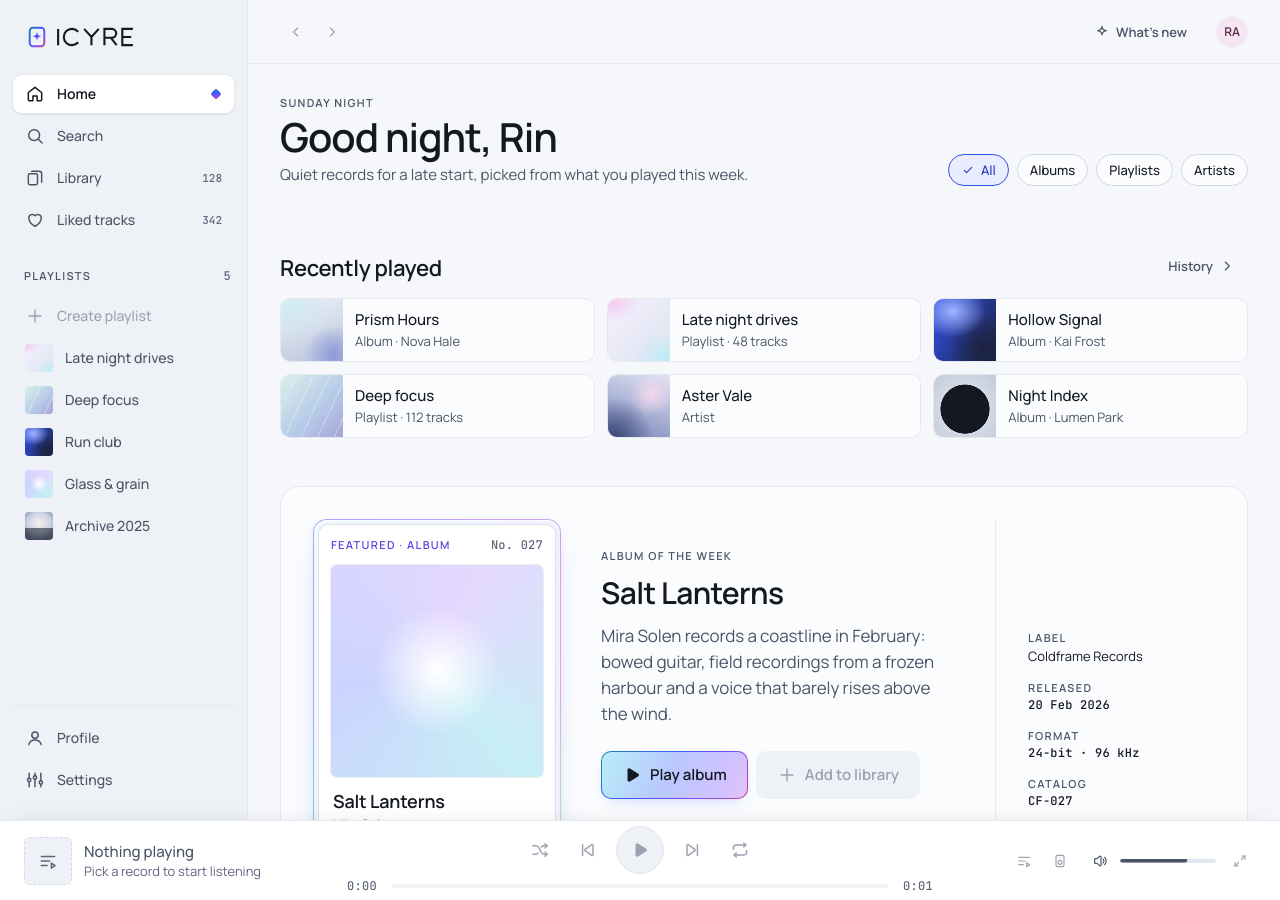
Test: Home screen › filters shelves with the chips
Click the button "Artists" at point(1214, 170), box [1181,154,1248,186]
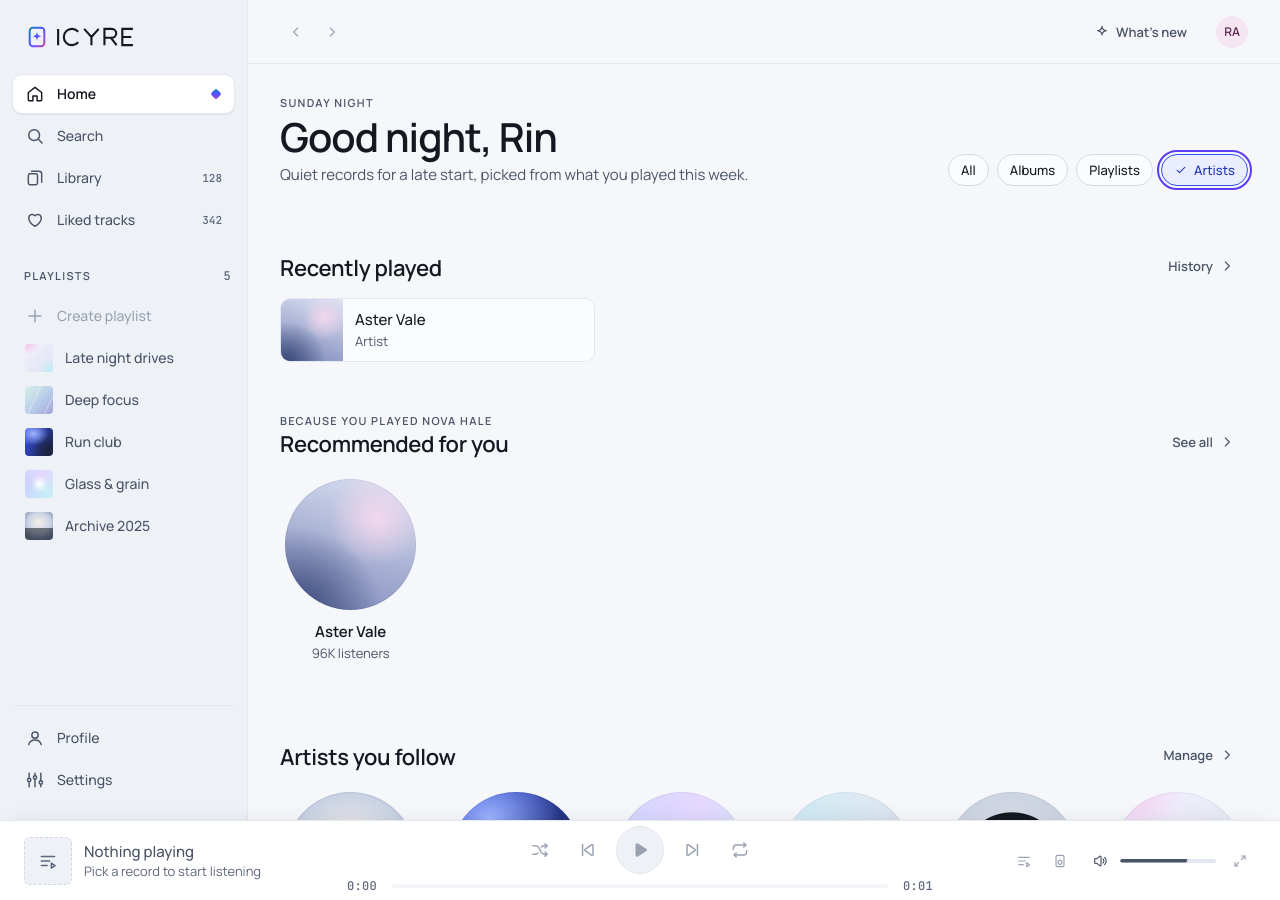
Result: the heading "Artists you follow" is shown at [280,742,456,772]
